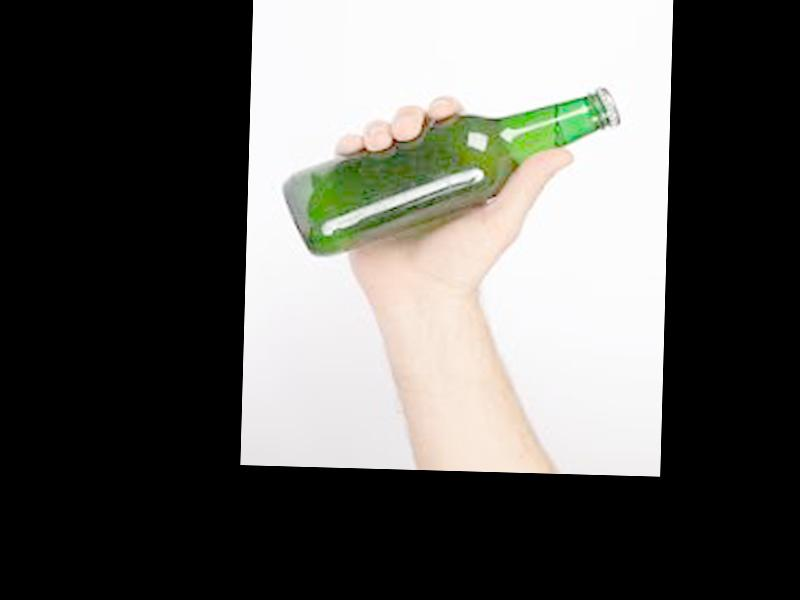Beer: (284, 80, 623, 265)
